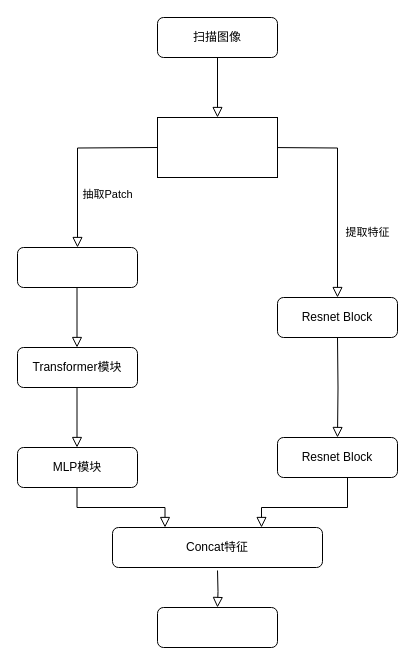
This 415x665 diagram has some shape labels left out. Each missing label, with the box of its shape:
图像序列块: (16, 246, 138, 288)
图像预处理: (156, 116, 278, 178)
得分预测: (156, 606, 278, 648)
